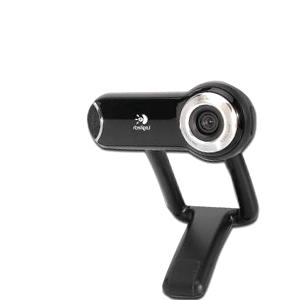webcam: (85, 75, 260, 172)
